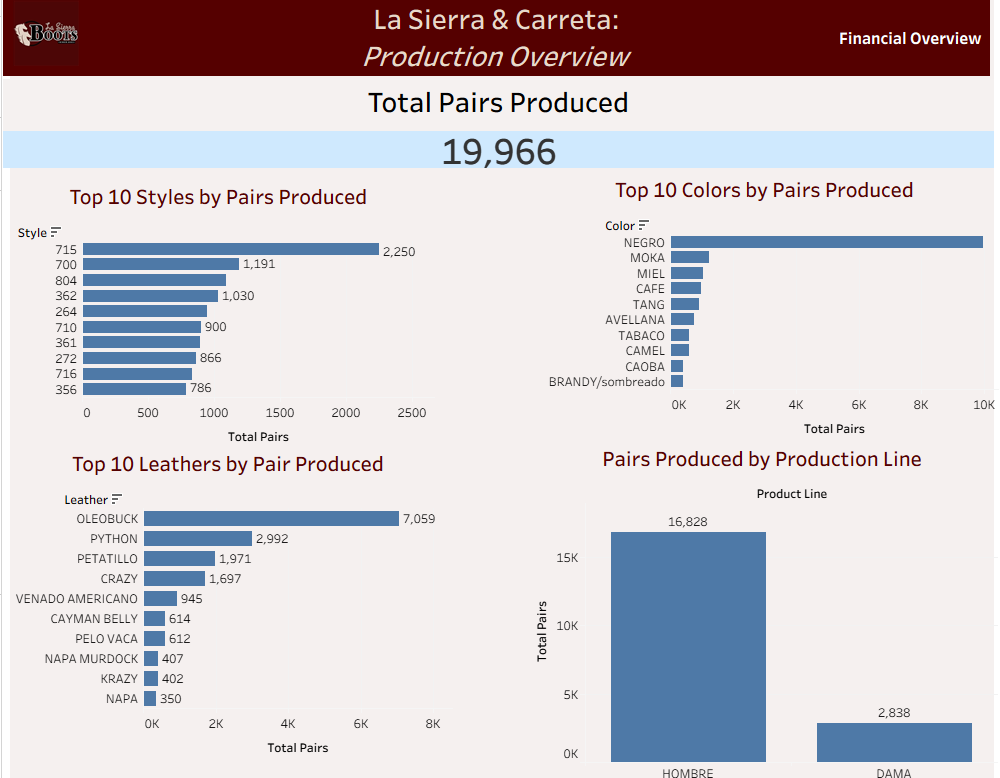

This screenshot's page, from the dashboard's own definition file:
{"tool":"tableau","page":{"name":"Procution Overview","canvas":[1000,800],"ordinal":1},"visuals":[{"type":"text","box":[1,8,987,78]},{"type":"dashboard-object","box":[826,21,164,54]},{"type":"worksheet","title":"Total Pairs Produced","mark":"Automatic","box":[1,89,991,89]},{"type":"worksheet","title":"Top Colors","mark":"Automatic","rows":["Color"],"cols":["Total Pairs"],"box":[528,181,469,273]},{"type":"worksheet","title":"Top Styles","mark":"Automatic","rows":["Style"],"cols":["Total Pairs"],"box":[0,188,433,274]},{"type":"worksheet","title":"Production by Production Line","mark":"Automatic","rows":["Total Pairs"],"cols":["Product Line"],"box":[524,450,472,343]},{"type":"worksheet","title":"Top Leathers","mark":"Automatic","rows":["Leather"],"cols":["Total Pairs"],"box":[1,455,450,348]}]}

Visuals, with their boxes in screenshot pixels (x1, y1, x2, y2), scaled from the page's 1000x800 canvas onto the 1000x778 screenshot:
text: x1=1, y1=8, x2=988, y2=84
dashboard-object: x1=826, y1=20, x2=990, y2=73
"Total Pairs Produced" worksheet: x1=1, y1=87, x2=992, y2=173
"Top Colors" worksheet: x1=528, y1=176, x2=997, y2=442
"Top Styles" worksheet: x1=0, y1=183, x2=433, y2=449
"Production by Production Line" worksheet: x1=524, y1=438, x2=996, y2=771
"Top Leathers" worksheet: x1=1, y1=442, x2=451, y2=777
